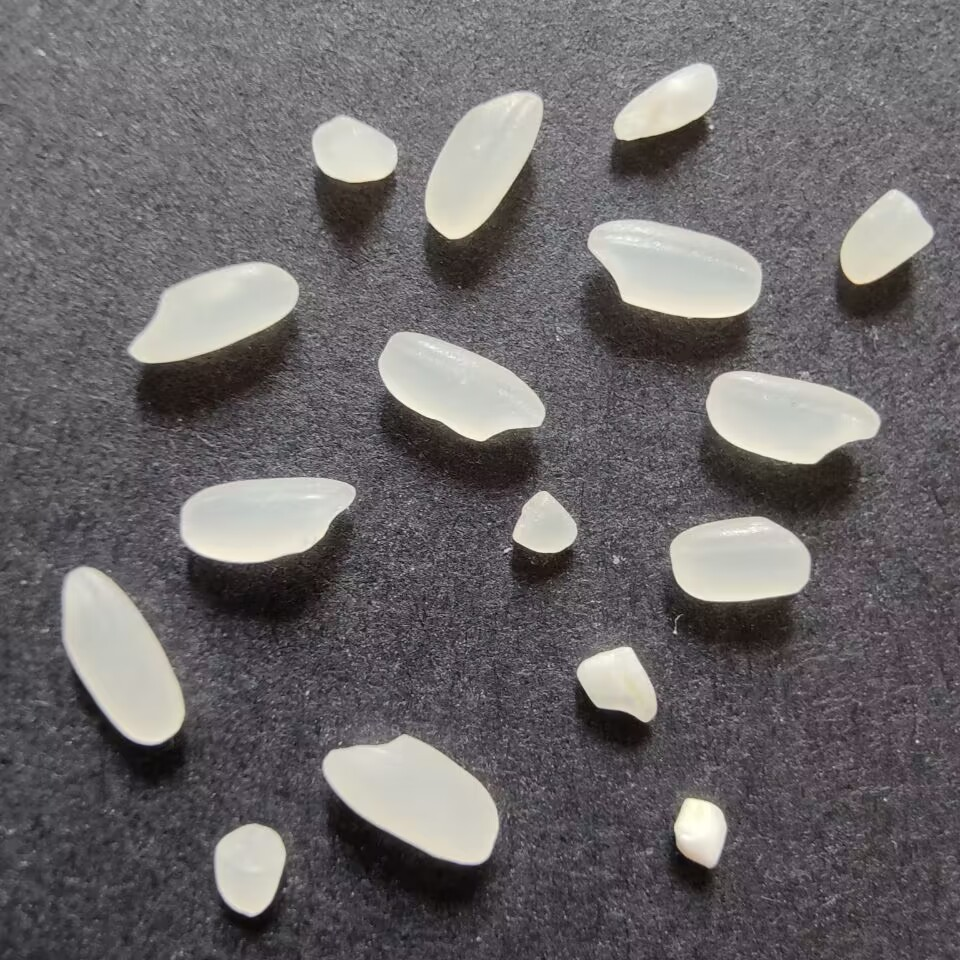broken: (834, 185, 938, 292), (604, 59, 725, 145), (207, 820, 291, 920), (569, 643, 658, 729), (306, 112, 401, 192), (666, 789, 733, 880), (506, 484, 582, 559)
rice: (314, 731, 507, 872), (55, 558, 192, 753), (372, 322, 549, 445), (117, 259, 307, 364), (581, 216, 768, 322), (422, 86, 547, 241), (701, 367, 889, 470), (173, 468, 357, 565), (669, 515, 813, 603)
